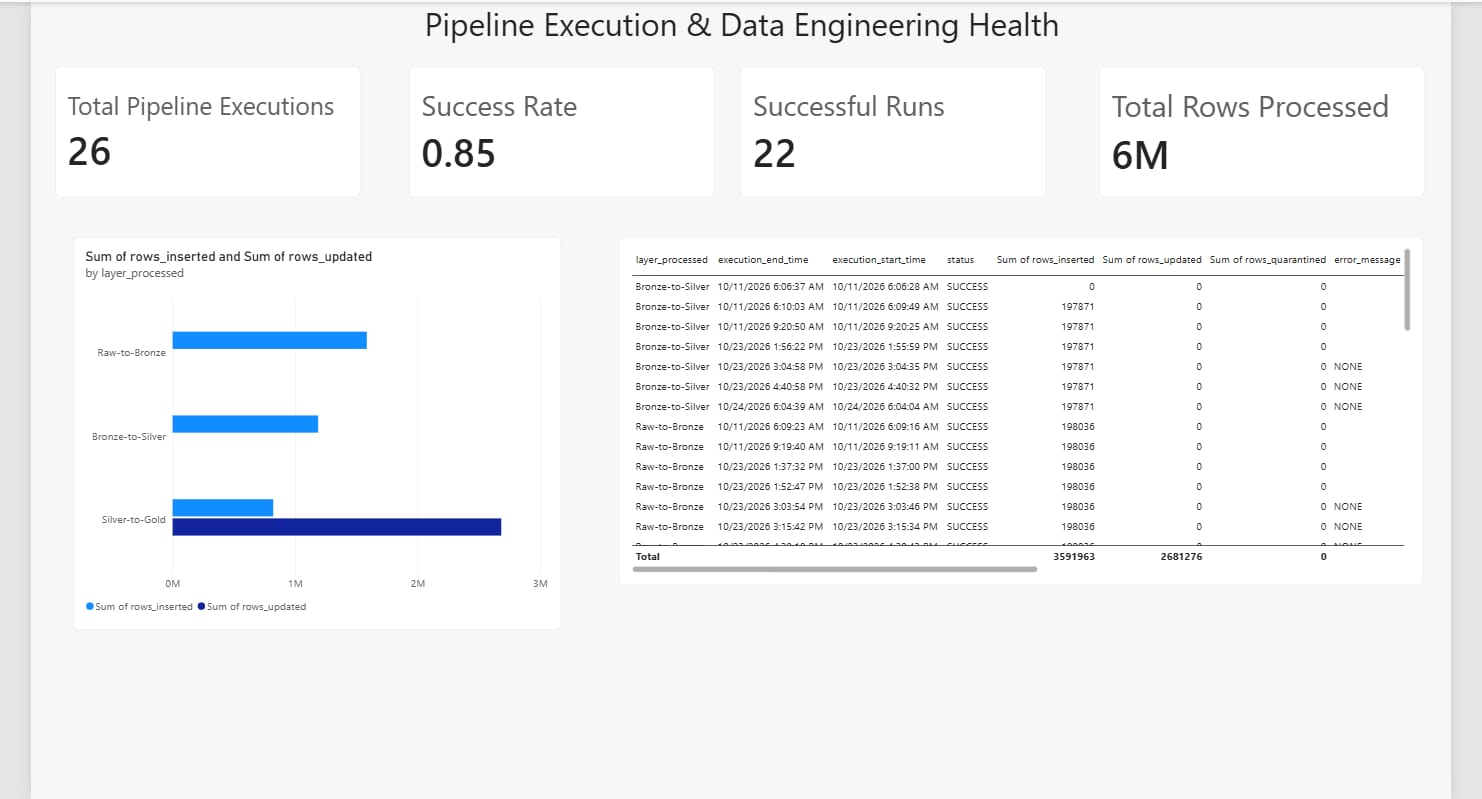

This screenshot's page, from the dashboard's own definition file:
{"tool":"powerbi","page":{"name":"page 2","canvas":[1920,1080],"ordinal":1},"visuals":[{"type":"textbox","box":[480.4,0,960.8,102.6],"z":0},{"type":"cardVisual","fields":{"Data":["_Measures.Total Rows Processed"]},"box":[1443.3,86.7,440,176.7],"z":1000},{"type":"cardVisual","fields":{"Data":["_Measures.Pipeline Success Rate"]},"box":[510,86.7,413.4,177.2],"z":2000},{"type":"cardVisual","fields":{"Data":["_Measures.Total Pipeline Executions"]},"box":[33.3,86.7,413.3,176.7],"z":3000},{"type":"cardVisual","fields":{"Data":["_Measures.Successful Runs"]},"box":[960,86.7,413.4,177.2],"z":4000},{"type":"clusteredBarChart","fields":{"Category":["pipeline_execution_logs.layer_processed"],"Y":["Sum(pipeline_execution_logs.rows_inserted)","Sum(pipeline_execution_logs.rows_updated)"]},"box":[57.5,317.5,660,530],"z":5000},{"type":"tableEx","fields":{"Values":["pipeline_execution_logs.layer_processed","pipeline_execution_logs.execution_end_time","pipeline_execution_logs.execution_start_time","pipeline_execution_logs.status","Sum(pipeline_execution_logs.rows_inserted)","Sum(pipeline_execution_logs.rows_updated)","Sum(pipeline_execution_logs.rows_quarantined)","pipeline_execution_logs.error_message"]},"box":[795,317.5,1087.5,470],"z":5001}]}

Visuals, with their boxes on the page's 1920x1080 design canvas (x1, y1, x2, y2). These are canvas units, not pixel positions in the 1482x799 screenshot, which may show the page scaled, cropped or inside an application window:
textbox: x1=480, y1=0, x2=1441, y2=103
cardVisual - _Measures.Total Rows Processed: x1=1443, y1=87, x2=1883, y2=263
cardVisual - _Measures.Pipeline Success Rate: x1=510, y1=87, x2=923, y2=264
cardVisual - _Measures.Total Pipeline Executions: x1=33, y1=87, x2=447, y2=263
cardVisual - _Measures.Successful Runs: x1=960, y1=87, x2=1373, y2=264
clusteredBarChart - pipeline_execution_logs.layer_processed x Sum(pipeline_execution_logs.rows_inserted): x1=58, y1=318, x2=718, y2=848
tableEx - pipeline_execution_logs.layer_processed x pipeline_execution_logs.execution_end_time: x1=795, y1=318, x2=1882, y2=788
